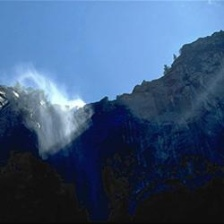neutral: (2, 4, 224, 112)
